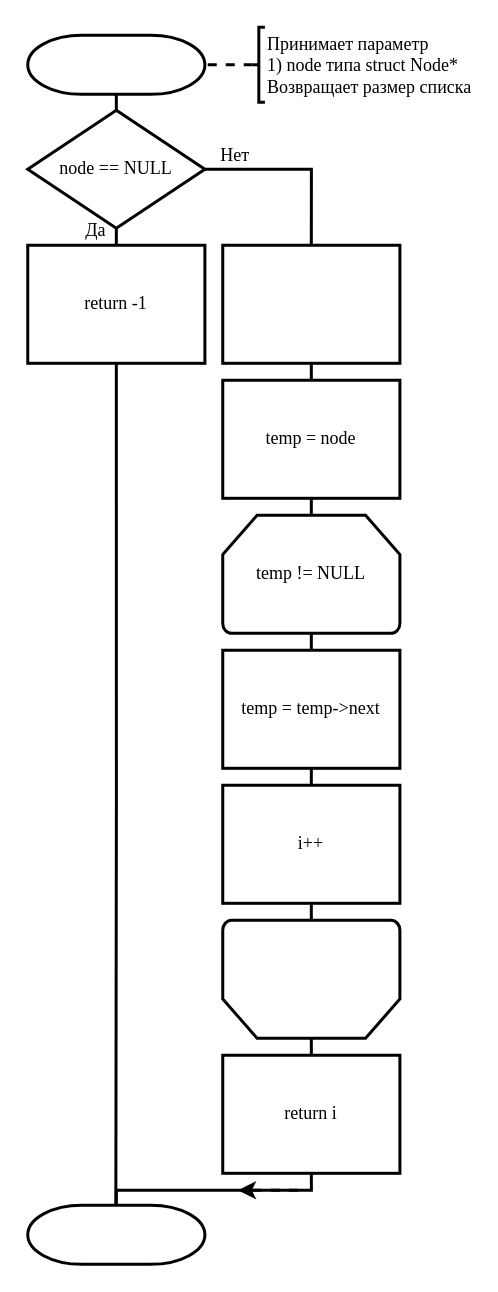
Some shapes in this 498 by 1292 pixel diagram are drawn without their labels. The centre of each missing label's shape, as x and y in pixels:
"i = 0" goes at (310,303).
"int get_list_size()" goes at (116,64).
"Конец" goes at (116,1234).
"Конец цикла" goes at (310,978).
